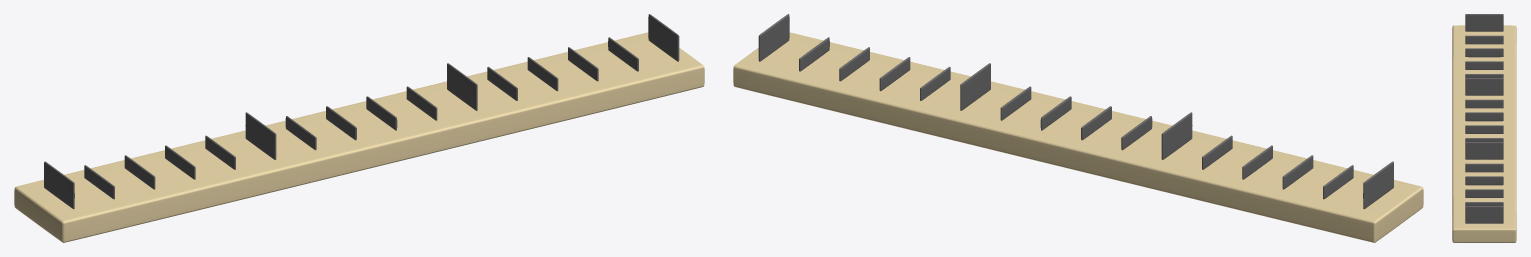
Rendered from ruler.glb.
3 views of the same model, side by side, from view 1: azimuth 30°, elevation 25°; view 2: azimuth 150°, elevation 25°; view 3: azimuth 270°, elevation 25° (orthographic). The views are drawn at different scales.
Parts seen in each view (by area): view 1: ruler; view 2: ruler; view 3: ruler.
Part boxes in pixels (x1,y1,x2,y2): ruler: (14, 14, 704, 242); ruler: (733, 14, 1423, 242); ruler: (1452, 14, 1516, 242).
Bounding box in the file's own units: 1.5 × 0.1099 × 0.1999.
